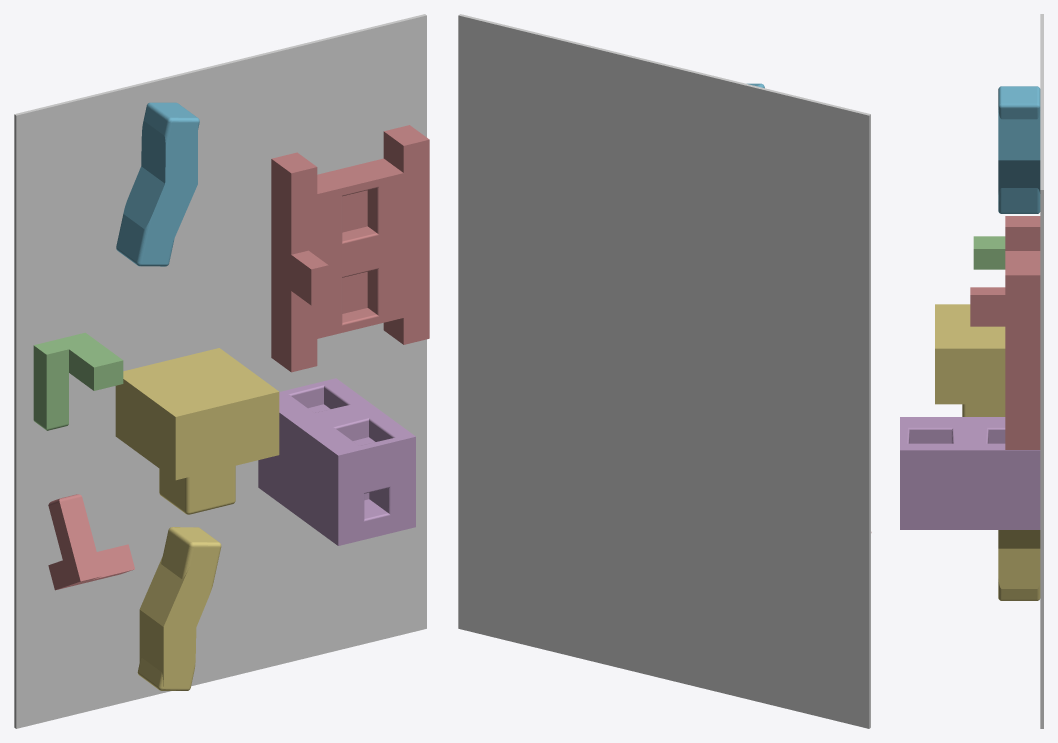
The model's file is pickup_layout.glb.
3 views of the same model, side by side, from view 1: azimuth 30°, elevation 25°; view 2: azimuth 150°, elevation 25°; view 3: azimuth 270°, elevation 25° (orthographic). The views are drawn at different scales.
Visible parts, largest first — view 1: world, 0.obj, 6.obj, 3.obj, 2.obj, 1.obj, 4.obj, 5.obj; view 2: world; view 3: 3.obj, 0.obj, 6.obj, 2.obj, 1.obj, world, 4.obj.
Boxes of the visible parts, x1,y1,x2,y2 form: world: (14, 14, 426, 728); 0.obj: (271, 125, 429, 372); 6.obj: (115, 348, 279, 514); 3.obj: (258, 378, 415, 545); 2.obj: (116, 102, 199, 266); 1.obj: (137, 527, 221, 690); 4.obj: (33, 332, 123, 430); 5.obj: (48, 494, 134, 590); world: (458, 14, 870, 728); 3.obj: (900, 417, 1040, 529); 0.obj: (970, 216, 1040, 449); 6.obj: (935, 304, 1005, 416); 2.obj: (998, 86, 1040, 213); 1.obj: (998, 530, 1040, 600); world: (1040, 14, 1043, 728); 4.obj: (973, 236, 1005, 269).
Size of the model in its own units: 23.75 by 33.89 by 8.2.
